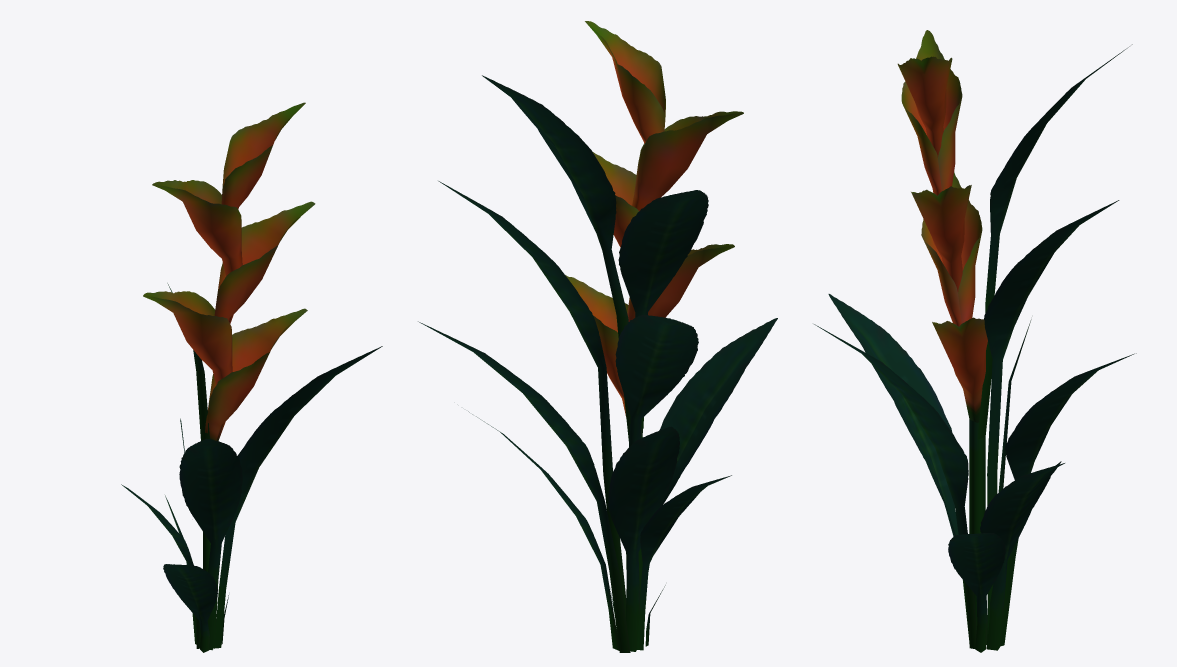
File: heliconia.glb
The picture shows the model from 3 angles, left to right: view 1: azimuth 30°, elevation 25°; view 2: azimuth 150°, elevation 25°; view 3: azimuth 270°, elevation 25°; orthographic projection. The views are drawn at different scales.
Bounding box in the file's own units: 6.27 × 13.45 × 6.68.
Materials: 1 (1 with a texture image).
